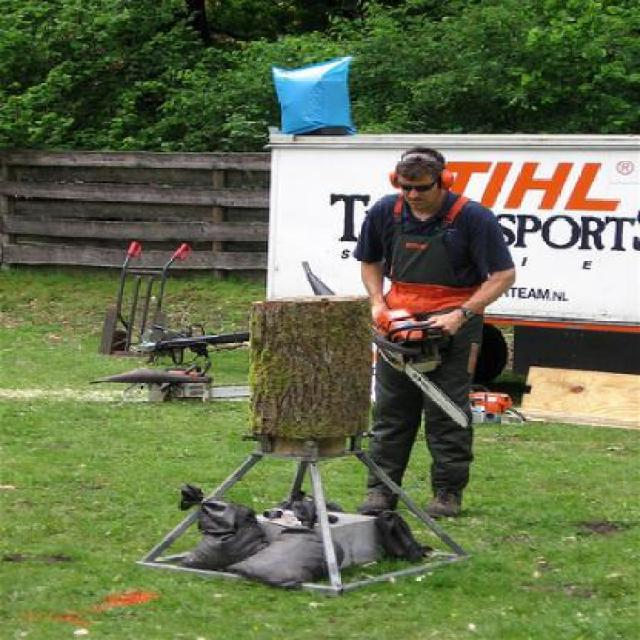Chainsaw: (367, 307, 471, 431)
